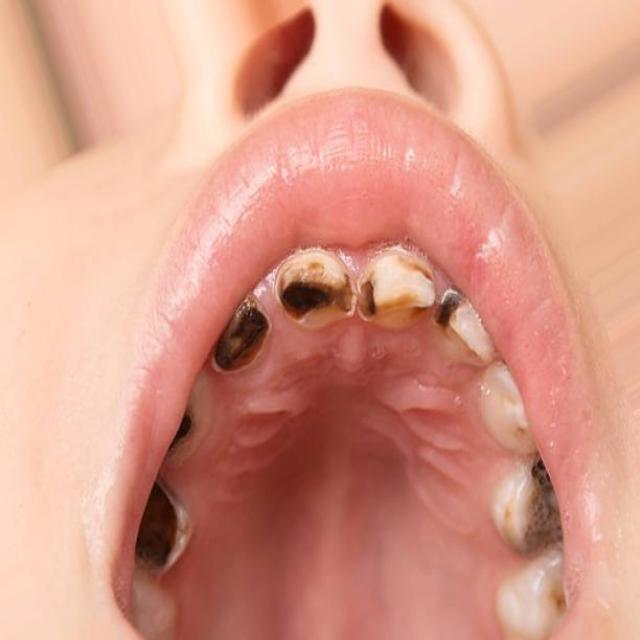caries: (126, 472, 198, 586), (356, 246, 436, 342), (272, 249, 356, 338), (208, 297, 272, 381), (511, 442, 576, 522), (155, 408, 208, 456), (435, 287, 477, 342)
